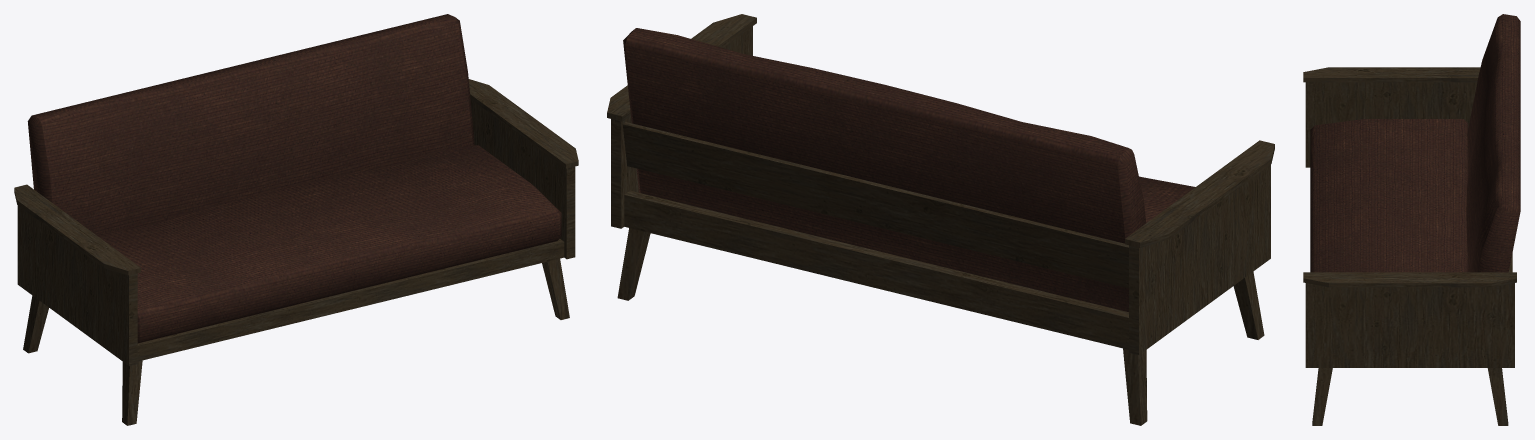
File: sofa_4.obj
The picture shows the model from 3 angles, left to right: view 1: azimuth 30°, elevation 25°; view 2: azimuth 150°, elevation 25°; view 3: azimuth 270°, elevation 25°; orthographic projection. The views are drawn at different scales.
Visible parts, largest first — view 1: sofa_4; view 2: sofa_4; view 3: sofa_4.
Part boxes in pixels (x1,y1,x2,y2): sofa_4: [14, 14, 578, 425]; sofa_4: [607, 14, 1274, 425]; sofa_4: [1303, 14, 1520, 425].
Bounding box in the file's own units: 2.2 × 1.03 × 0.9346.
